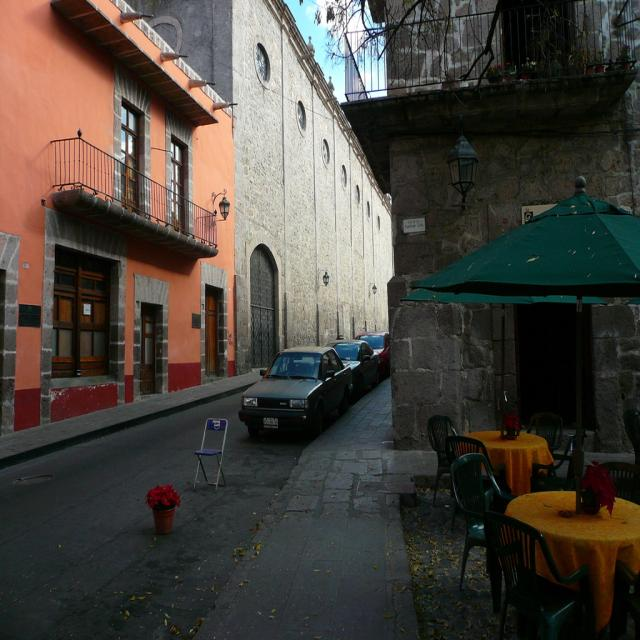car: (237, 347, 352, 435)
